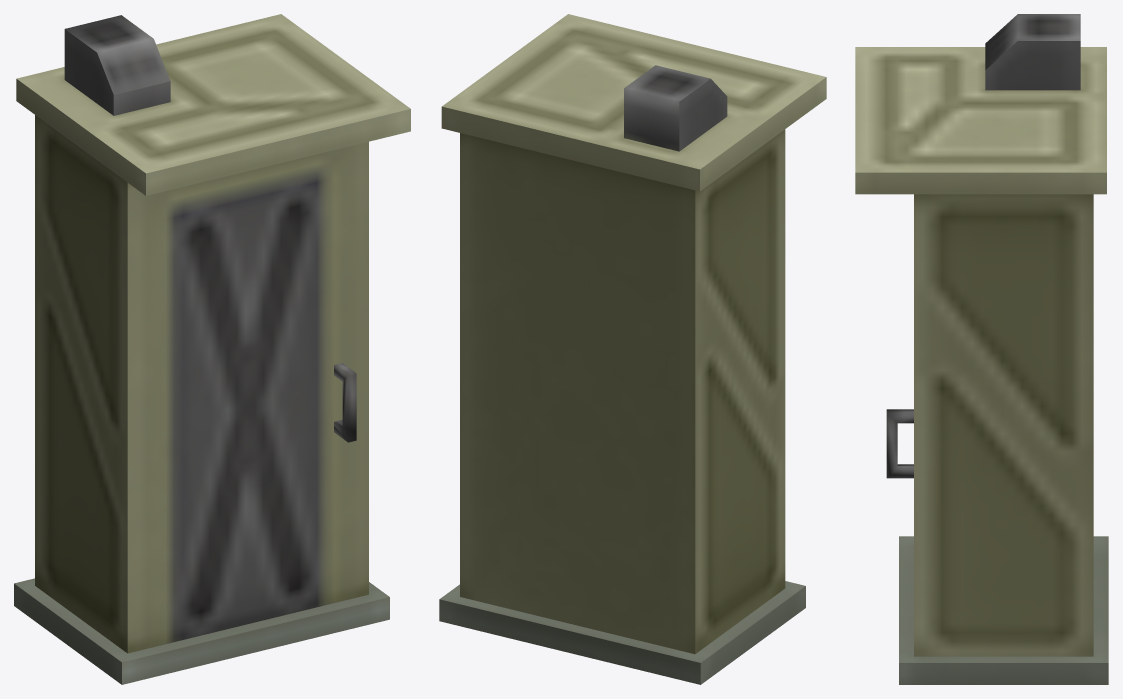
The model's file is Transformer_Booth.FBX.
3 views of the same model, side by side, from view 1: azimuth 30°, elevation 25°; view 2: azimuth 150°, elevation 25°; view 3: azimuth 270°, elevation 25° (orthographic). The views are drawn at different scales.
Visible parts, largest first — view 1: Transformer_Booth; view 2: Transformer_Booth; view 3: Transformer_Booth.
Boxes of the visible parts, box(x1,y1,x2,y2) form: Transformer_Booth: box(14, 14, 410, 684); Transformer_Booth: box(439, 14, 826, 684); Transformer_Booth: box(855, 14, 1108, 684).
Size of the model in its own units: 212 by 438 by 179.
